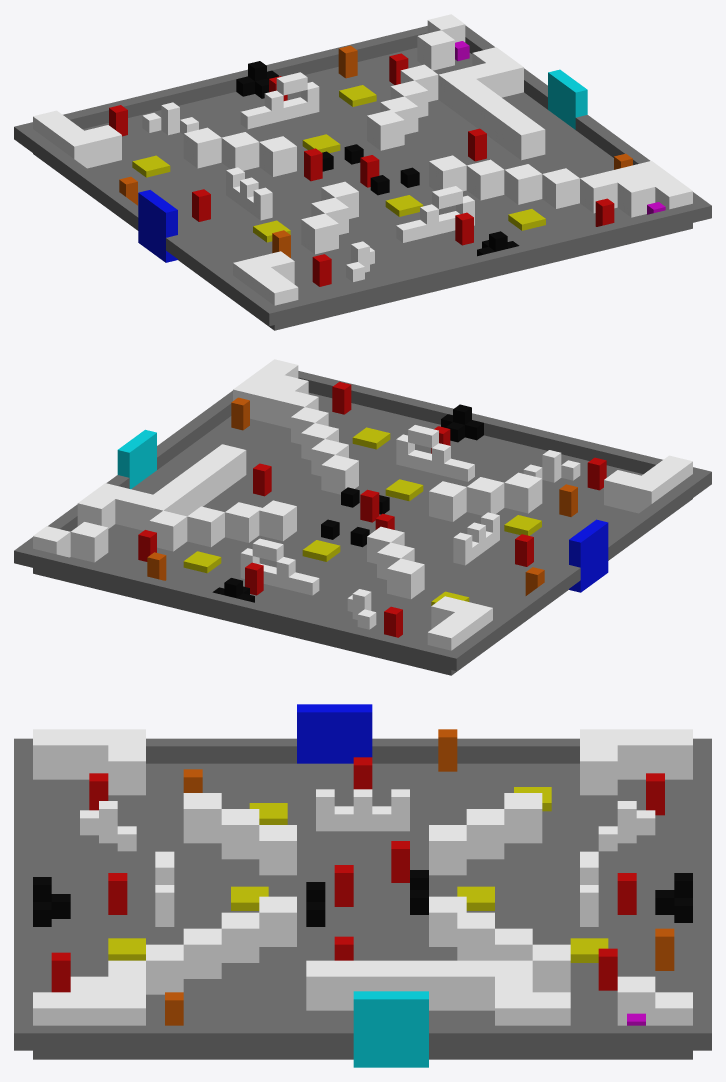
File: level1_b7v2C_35.fbx
3 renders of one model, top to bottom at view 1: azimuth 30°, elevation 25°; view 2: azimuth 150°, elevation 25°; view 3: azimuth 270°, elevation 25°, orthographic. The views are drawn at different scales.
Parts seen in each view (by area): view 1: FloorWalls, Covers, pCube5, pCube4, Antena4, Stormtrooper, pCube88, pCube86, pCube85, pCube83, Stormtrooper6, Stormtrooper5 (+5 smaller); view 2: FloorWalls, Covers, pCube5, pCube4, Stormtrooper3, pCube85, pCube86, pCube83, pCube84, Stormtrooper4, pCube87, Stormtrooper (+8 smaller); view 3: FloorWalls, Covers, pCube4, pCube5, pCube86, Antena1, Antena4, Stormtrooper2, Stormtrooper4, Turret, Turret1, pCube85 (+9 smaller).
Boxes of the visible parts, box(x1,y1,x2,y2) form: FloorWalls: box(14, 25, 711, 330); Covers: box(33, 14, 692, 305); pCube5: box(138, 190, 177, 262); pCube4: box(548, 69, 587, 129); Antena4: box(338, 45, 357, 78); Stormtrooper: box(312, 254, 331, 286); pCube88: box(132, 155, 170, 177); pCube86: box(508, 209, 545, 230); pCube85: box(339, 85, 376, 106); pCube83: box(385, 195, 423, 216); Stormtrooper6: box(304, 148, 322, 181); Stormtrooper5: box(468, 128, 486, 161); FloorWalls: box(14, 371, 711, 675); Covers: box(33, 359, 692, 650); pCube5: box(569, 519, 608, 592); pCube4: box(117, 429, 156, 489); Stormtrooper3: box(332, 382, 351, 414); pCube85: box(183, 551, 221, 573); pCube86: box(352, 427, 390, 449); pCube83: box(385, 479, 423, 501); pCube84: box(302, 540, 340, 561); Stormtrooper4: box(360, 489, 379, 522); pCube87: box(504, 515, 541, 535); Stormtrooper: box(587, 457, 606, 490); FloorWalls: box(14, 738, 711, 1059); Covers: box(33, 729, 692, 1025); pCube4: box(353, 991, 428, 1067); pCube5: box(297, 704, 372, 763); pCube86: box(108, 938, 145, 960); Antena1: box(438, 729, 457, 771); Antena4: box(655, 928, 674, 970); Stormtrooper2: box(598, 948, 617, 990); Stormtrooper4: box(334, 865, 353, 906); Turret: box(108, 873, 127, 914); Turret1: box(617, 873, 636, 914); pCube85: box(570, 938, 608, 962).
Size of the model in its own units: 1457 by 177 by 1457.
